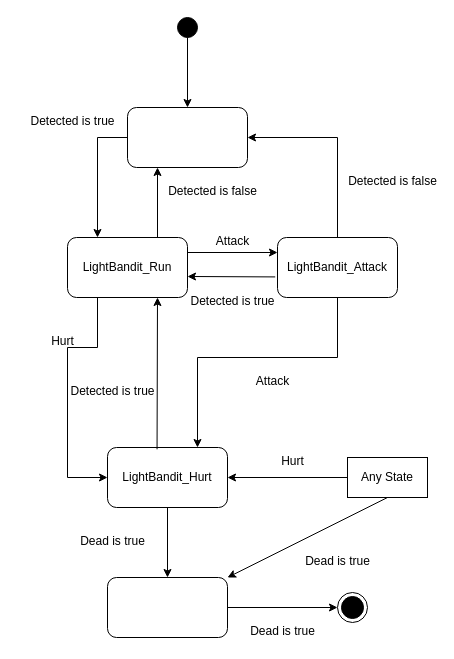
The diagram is 454 pixels wide and 659 high, and some of its shapes have lost their labels. Here are the shapes that lost their labels. From the top down, the box of each, then its label:
(126, 106, 248, 168): LightBandit_Idle
(106, 576, 228, 638): LightBandit_Death
